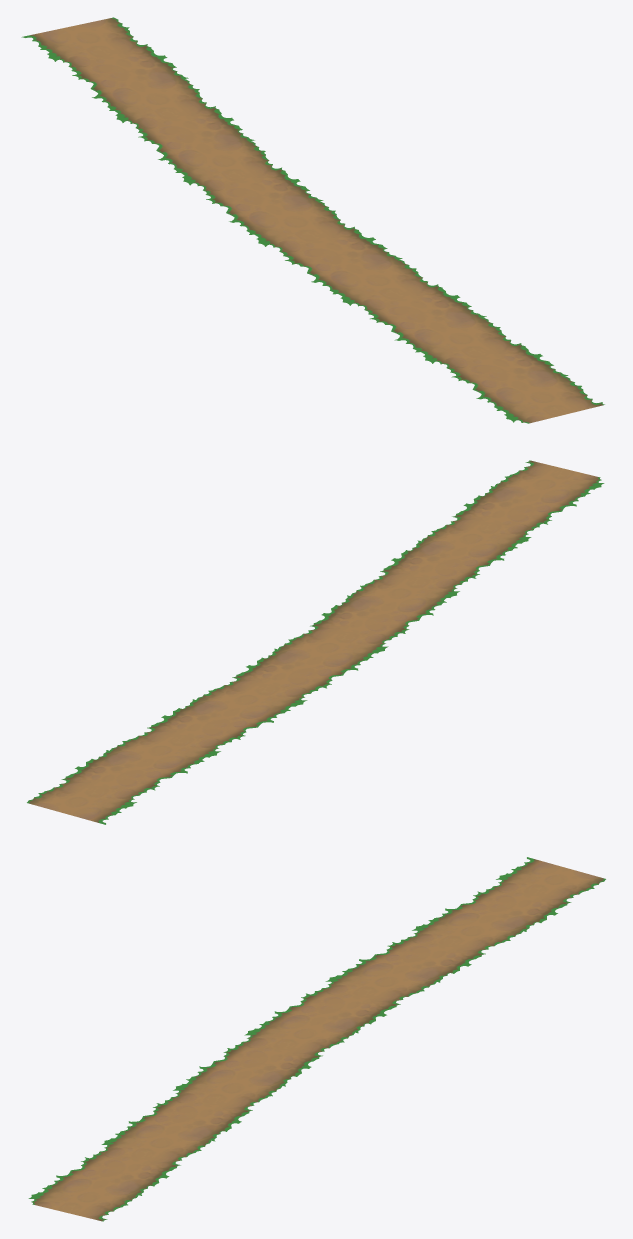
Rendered from FarmRoadMain4_baked.fbx.
The picture shows the model from 3 angles, top to bottom: view 1: azimuth 30°, elevation 25°; view 2: azimuth 150°, elevation 25°; view 3: azimuth 330°, elevation 25°; orthographic projection. The views are drawn at different scales.
Visible parts, largest first — view 1: FarmRoadMain4_baked; view 2: FarmRoadMain4_baked; view 3: FarmRoadMain4_baked.
Boxes of the visible parts, bbox=[...] form: FarmRoadMain4_baked: bbox=[21, 17, 604, 423]; FarmRoadMain4_baked: bbox=[27, 460, 604, 824]; FarmRoadMain4_baked: bbox=[28, 857, 605, 1221].
Size of the model in its own units: 3.57 by 0 by 22.03.
Materials: 1 (1 with a texture image).
